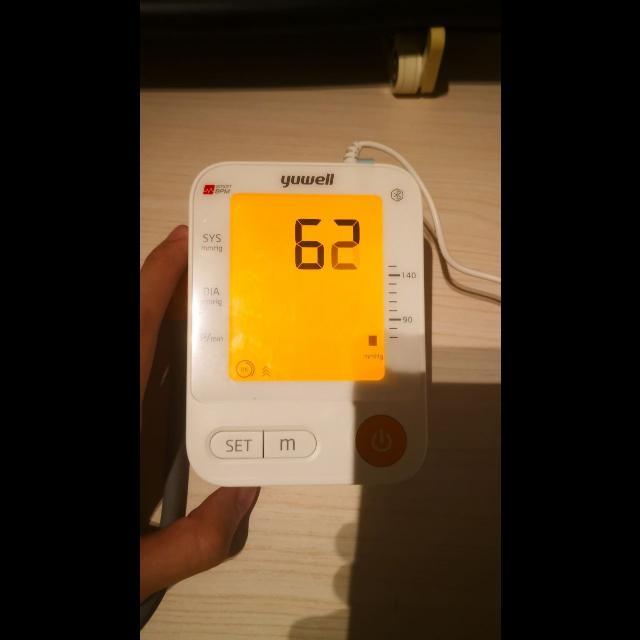Blood-Pressure-Monitor: (185, 160, 428, 488)
